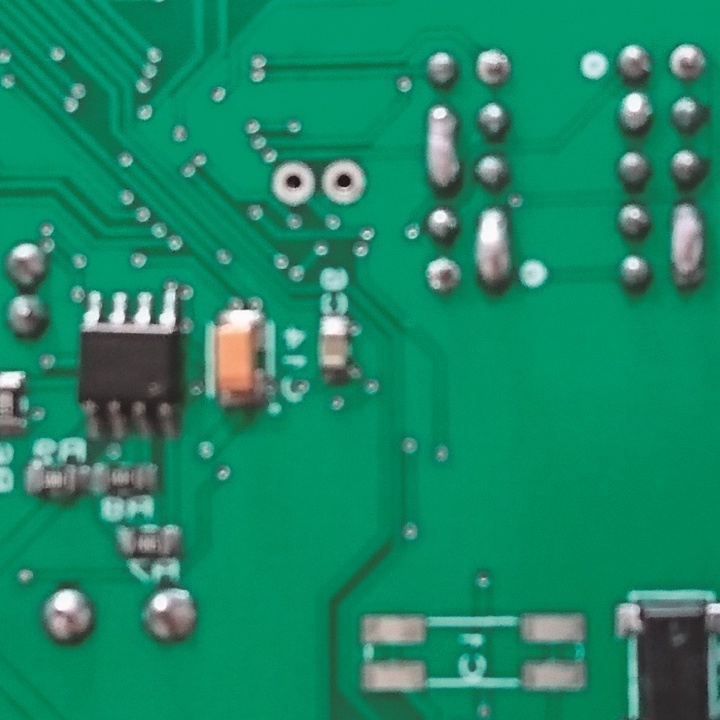F: (321, 156, 369, 209), (270, 158, 319, 209), (473, 46, 513, 89), (667, 43, 709, 83), (424, 256, 461, 296)
P: (422, 98, 464, 198), (471, 203, 513, 291), (667, 200, 704, 289)
